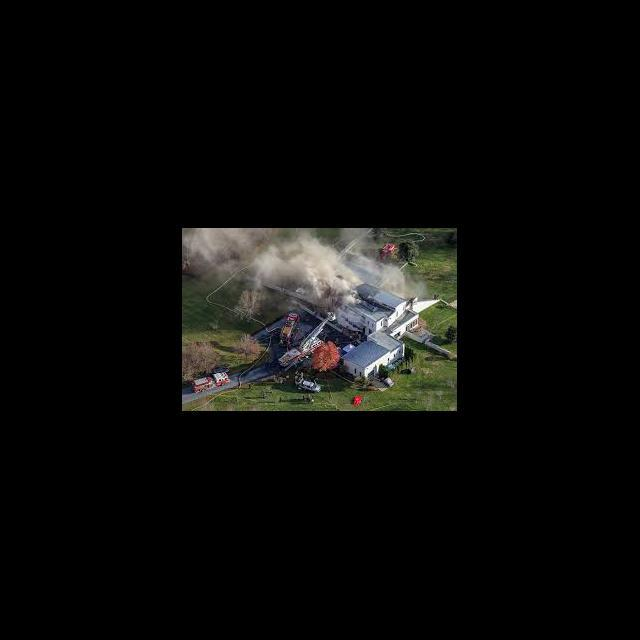Smoke: (182, 228, 420, 304)
